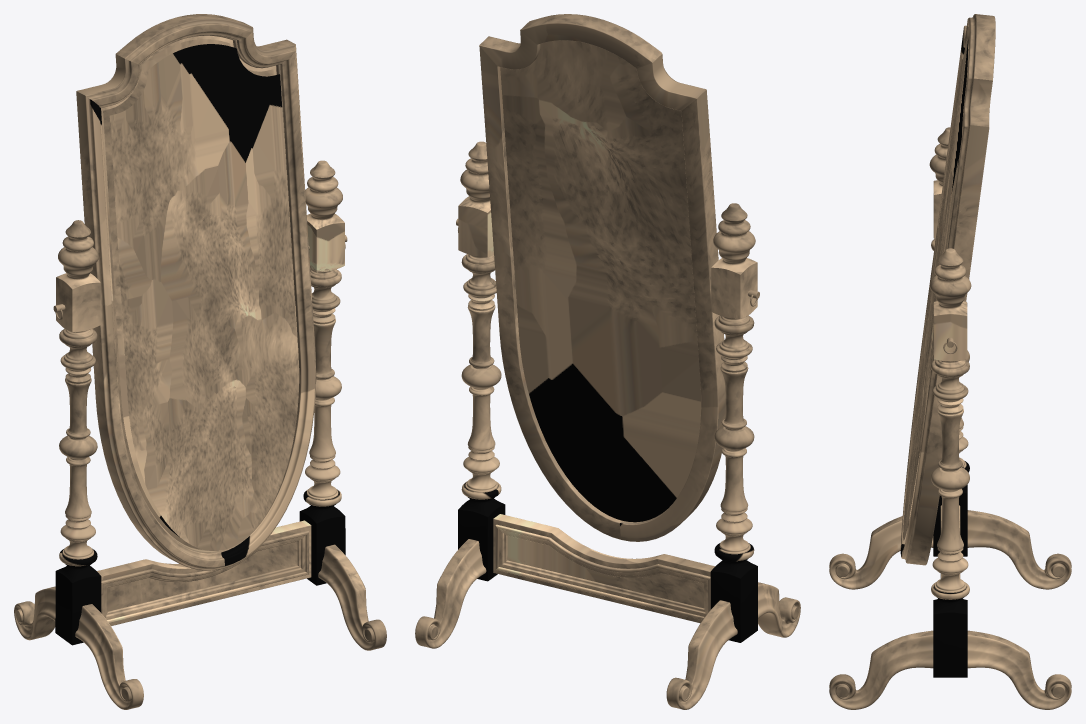
The model's file is mirror.gltf.
3 renders of one model, left to right at view 1: azimuth 30°, elevation 25°; view 2: azimuth 150°, elevation 25°; view 3: azimuth 270°, elevation 25°, orthographic. The views are drawn at different scales.
Visible parts, largest first — view 1: mirror, base, frame; view 2: frame, base; view 3: base, frame, mirror.
Boxes of the visible parts, x1,y1,x2,y2 form: mirror: (109,44,298,550); base: (14,160,386,709); frame: (76,14,316,570); frame: (479,14,725,541); base: (415,141,800,709); base: (829,127,1071,709); frame: (900,14,995,565); mirror: (903,38,967,540).
Bounding box in the file's own units: 307 × 618 × 219.
